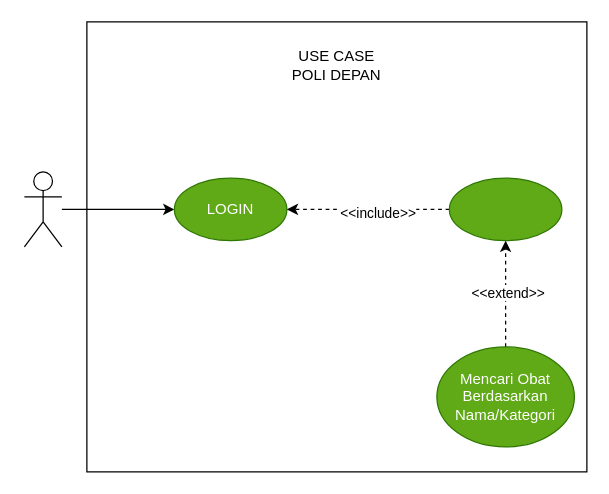
Some shapes in this 609 by 494 pixel diagram are drawn without their labels. The shapes that lost their labels are listed below. From the top down, each one's centre as x and y in pixels, then its label:
At point (42, 209): "Poli Depan".
At point (505, 209): "Melihat Stok Obat Apotek".
